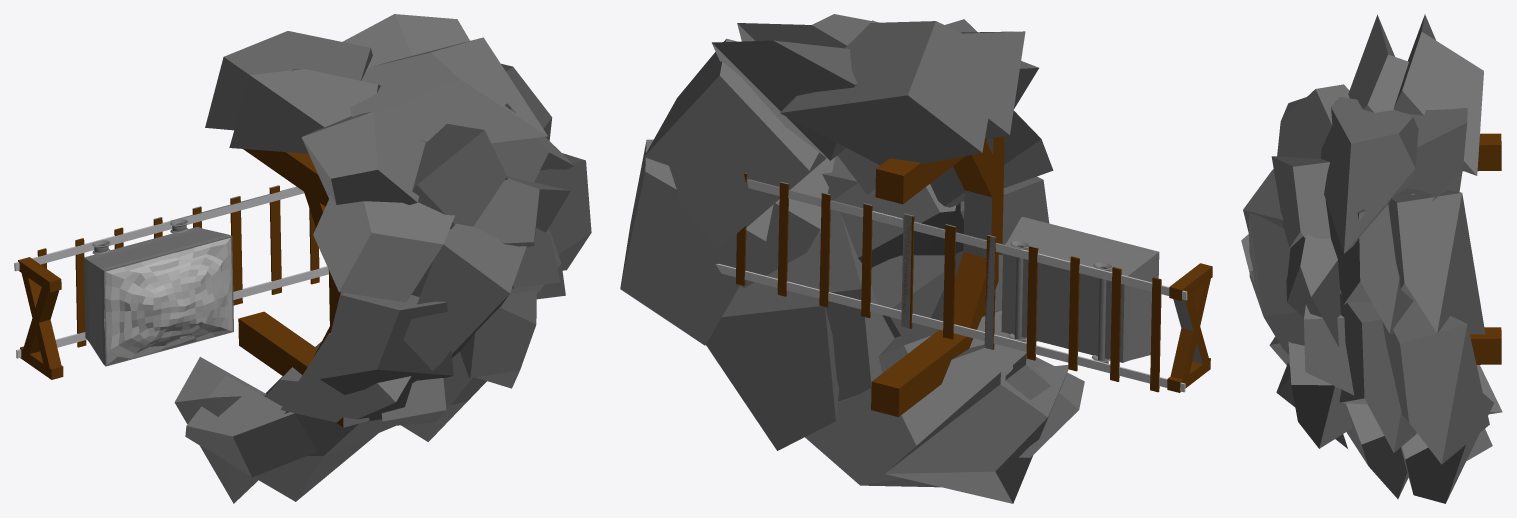
File: Шахта2Origin.fbx
3 renders of one model, left to right at view 1: azimuth 30°, elevation 25°; view 2: azimuth 150°, elevation 25°; view 3: azimuth 270°, elevation 25°, orthographic. The views are drawn at different scales.
Parts seen in each view (by area): view 1: Шахта2; view 2: Шахта2; view 3: Шахта2.
Part boxes in pixels (x1=…): Шахта2: x1=14, y1=14, x2=591, y2=503; Шахта2: x1=620, y1=14, x2=1212, y2=503; Шахта2: x1=1241, y1=14, x2=1502, y2=503.
Size of the model in its own units: 2.49 by 1.96 by 1.08.
